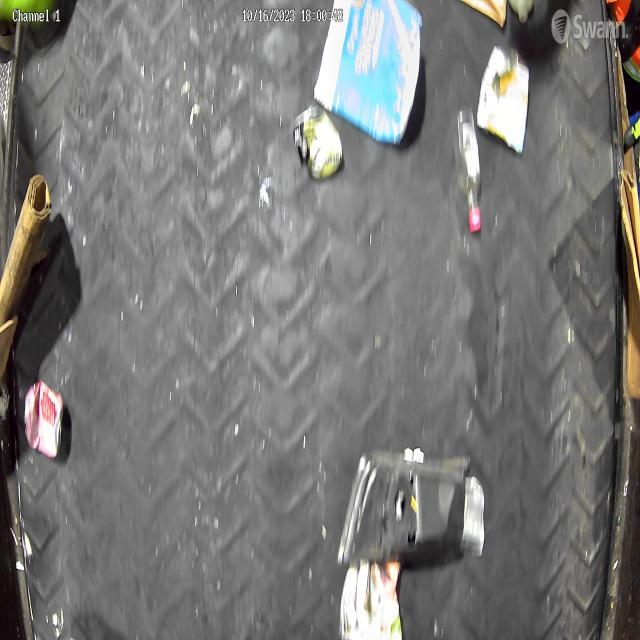can: (477, 44, 530, 154), (294, 104, 344, 180), (24, 380, 64, 458)
non_white_jug: (314, 0, 423, 145)
plastic_bottle: (453, 107, 481, 233)
